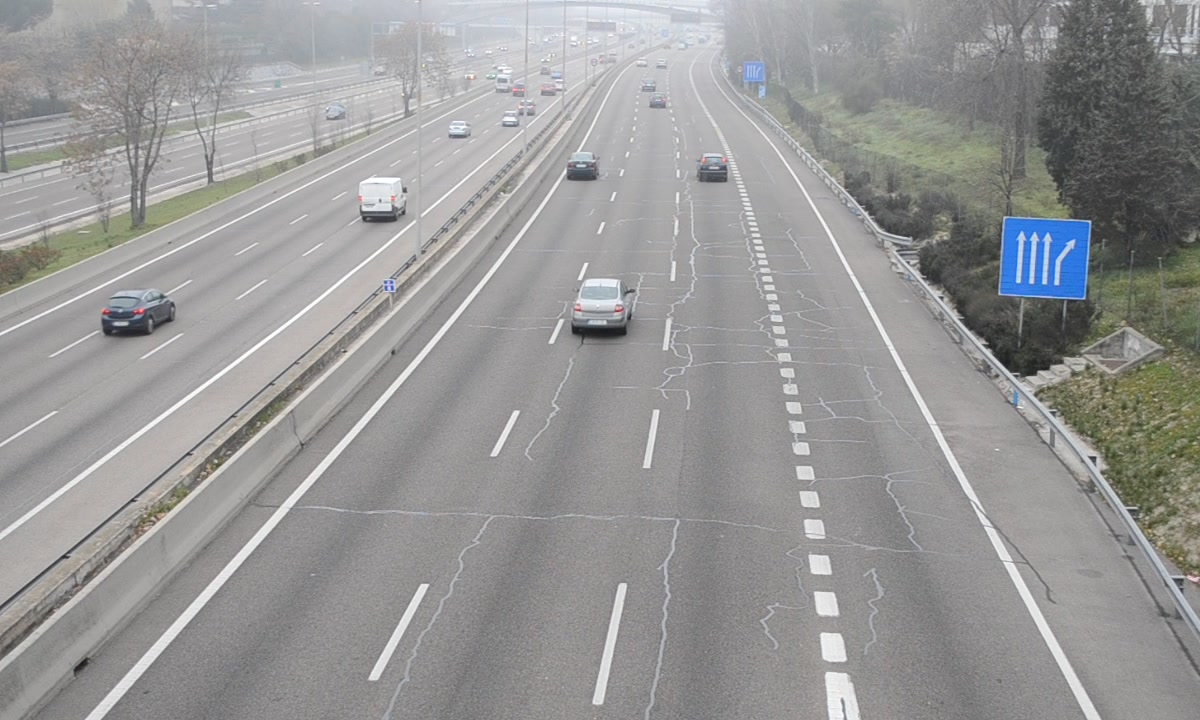car: (573, 278, 631, 329), (567, 151, 599, 181), (697, 154, 729, 183)
